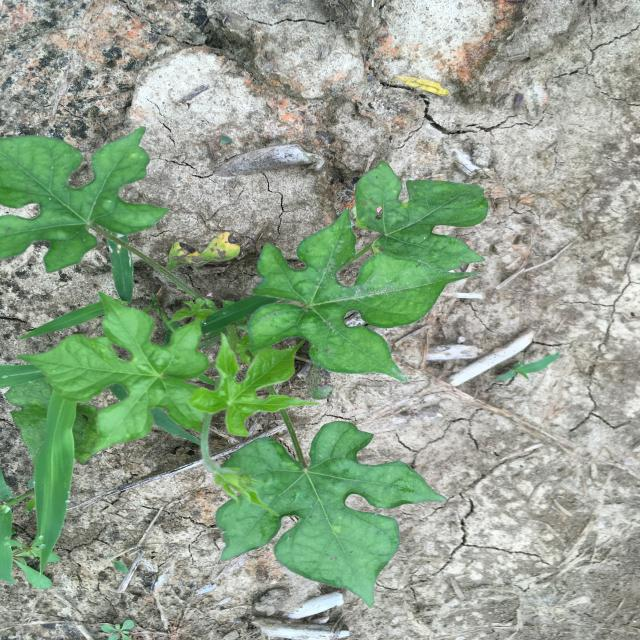Carpetweed: (100, 620, 134, 640)
MorningGlory: (1, 128, 489, 608)
